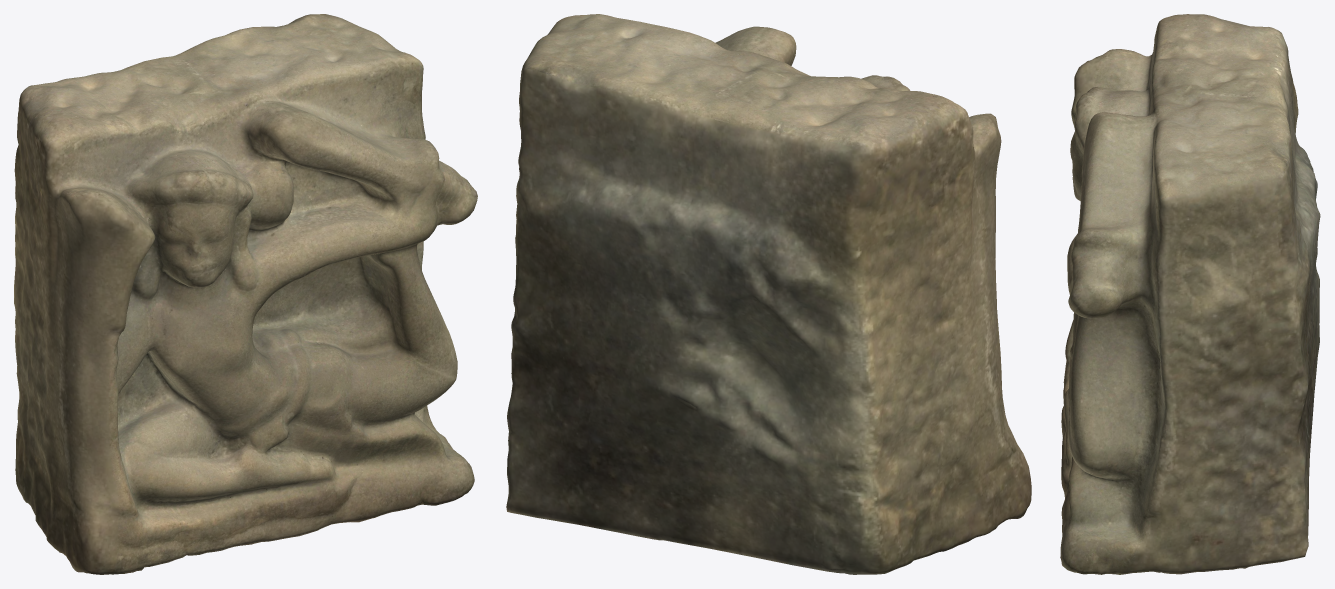
Rendered from 17_chienbinhbay_final.glb.
3 renders of one model, left to right at view 1: azimuth 30°, elevation 25°; view 2: azimuth 150°, elevation 25°; view 3: azimuth 270°, elevation 25°, orthographic. The views are drawn at different scales.
Size of the model in its own units: 0.4529 by 0.4543 by 0.2694.
1 material, 1 textured.
